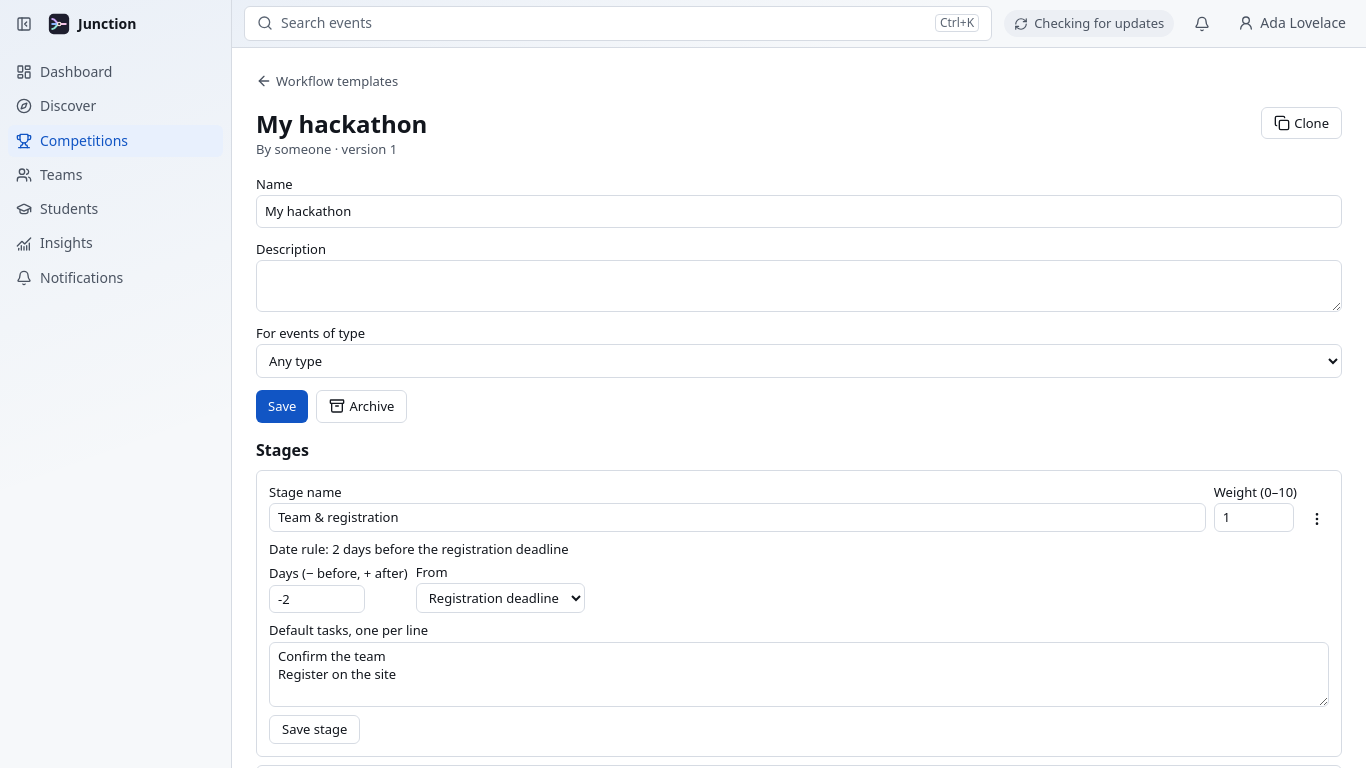
it: the template editor › a stale version is refused in the house words
Expected: the navigation bar named "Main" is shown, [0,0,231,302]
Click the button "Save": (282, 406) [256,390,308,423]
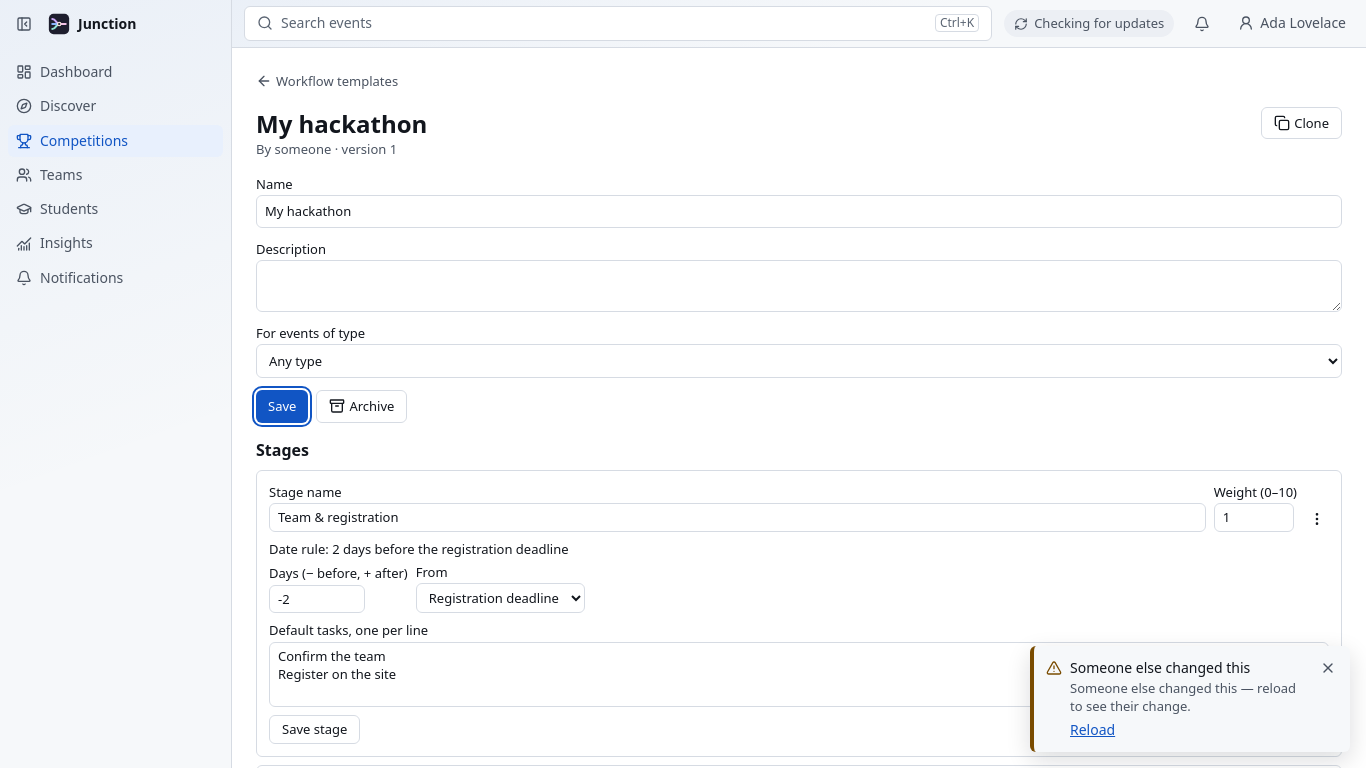
Result: the text "Someone else changed this — reload to see their change." is shown at [1070,679,1310,716]
